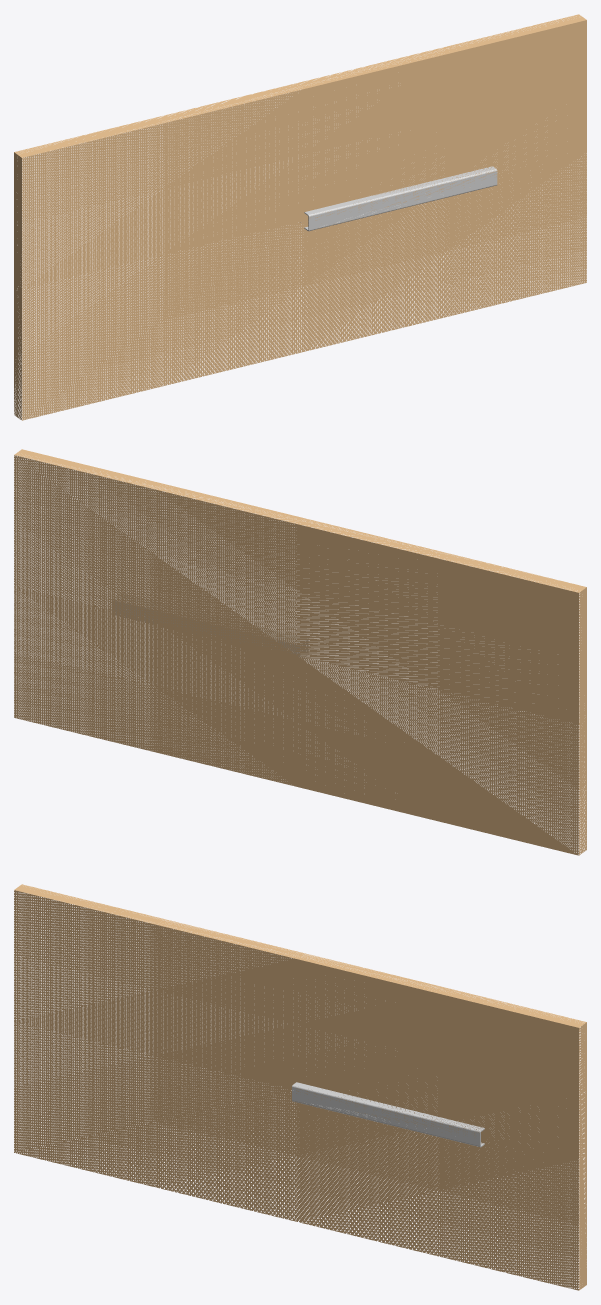
File: leg.gltf
3 views of the same model, one above another, from view 1: azimuth 30°, elevation 25°; view 2: azimuth 150°, elevation 25°; view 3: azimuth 330°, elevation 25° (orthographic).
Visible parts, largest first — view 1: leg.TableTop, leg.Leg; view 2: leg.TableTop, leg.Leg; view 3: leg.TableTop, leg.Leg.
Part boxes in pixels (x1,y1,x2,y2): leg.TableTop: [14, 14, 586, 420]; leg.Leg: [300, 166, 497, 231]; leg.TableTop: [14, 449, 586, 855]; leg.Leg: [111, 593, 308, 657]; leg.TableTop: [14, 884, 586, 1290]; leg.Leg: [292, 1082, 484, 1147].
Bounding box in the file's own units: 0.036 × 0.016 × 0.00137.
